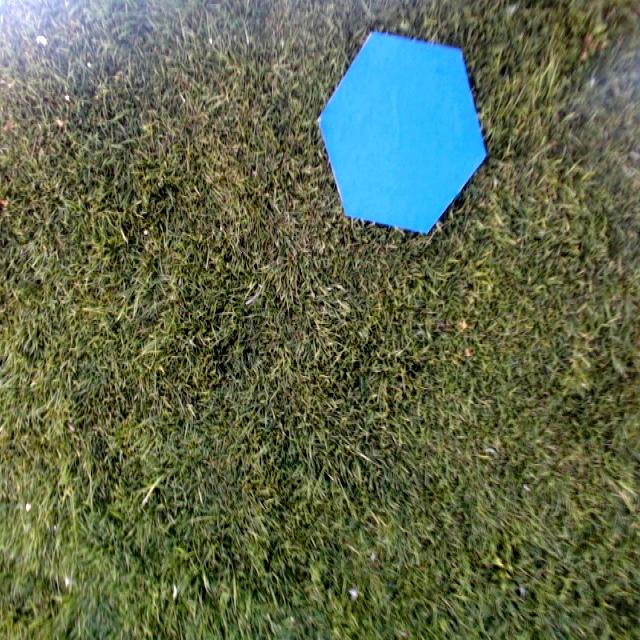blue_hexagon: (314, 30, 488, 234)
